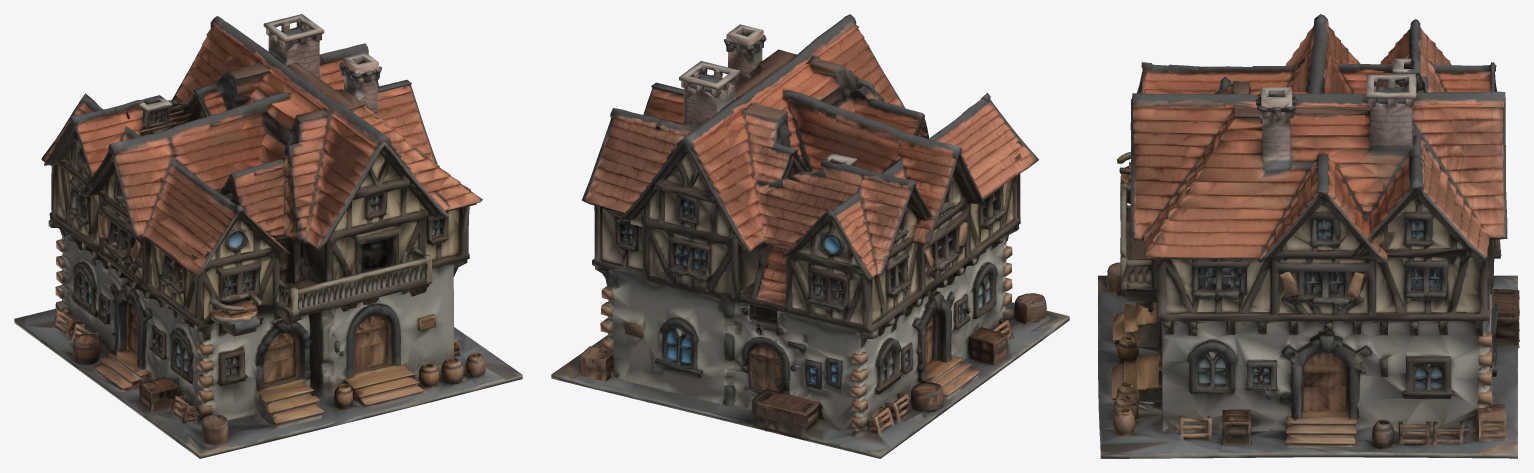
The model's file is A_modular_medieval_ho.glb.
The picture shows the model from 3 angles, left to right: view 1: azimuth 30°, elevation 25°; view 2: azimuth 150°, elevation 25°; view 3: azimuth 270°, elevation 25°; orthographic projection. The views are drawn at different scales.
Parts seen in each view (by area): view 1: A_modular_medieval_ho; view 2: A_modular_medieval_ho; view 3: A_modular_medieval_ho.
Boxes of the visible parts, x1,y1,x2,y2 form: A_modular_medieval_ho: (14,14,522,458); A_modular_medieval_ho: (551,14,1069,458); A_modular_medieval_ho: (1098,14,1519,458).
Size of the model in its own units: 2 by 1.67 by 2.
1 material, 1 textured.
